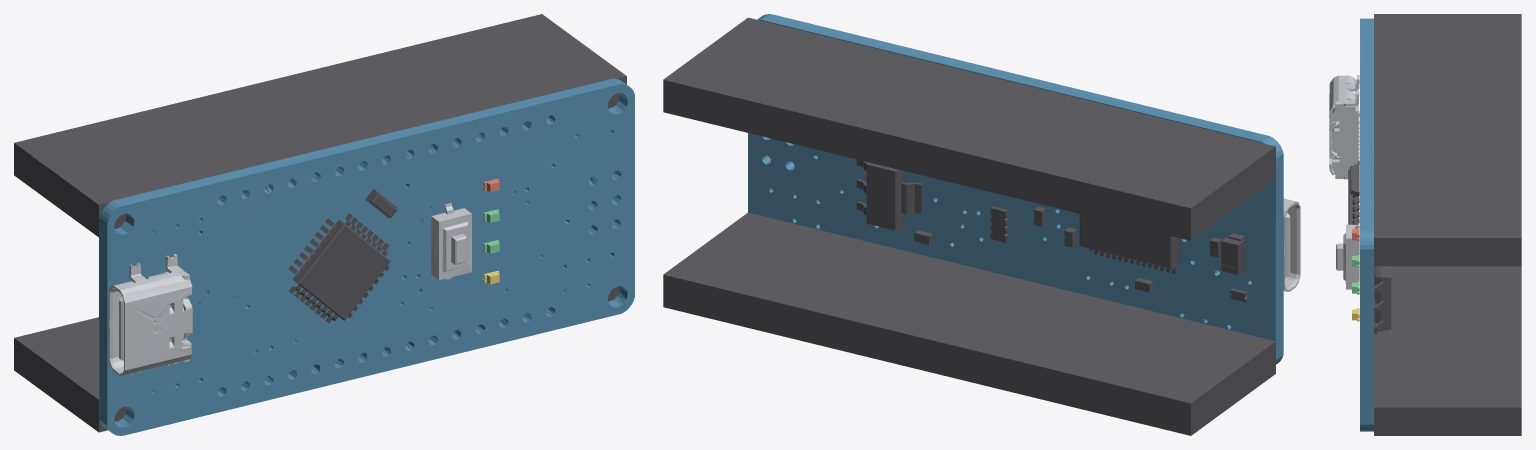
File: nano.glb
3 renders of one model, left to right at view 1: azimuth 30°, elevation 25°; view 2: azimuth 150°, elevation 25°; view 3: azimuth 270°, elevation 25°, orthographic. The views are drawn at different scales.
Visible parts, largest first — view 1: pcb-blue, plastic-black, steel, led-yellow; view 2: plastic-black, pcb-blue, steel; view 3: plastic-black, pcb-blue, steel, led-yellow.
Part boxes in pixels (x1,y1,x2,y2): pcb-blue: (99,78,634,435); plastic-black: (14,14,626,432); steel: (108,203,471,375); led-yellow: (483,178,499,284); plastic-black: (663,17,1275,435); pcb-blue: (748,14,1283,364); steel: (1283,198,1300,291); plastic-black: (1348,14,1521,435); pcb-blue: (1360,18,1373,431); steel: (1329,75,1359,289); led-yellow: (1352,228,1359,321).
Bounding box in the file's own units: 0.0432 × 0.018 × 0.0157.
Materials: 4 (4 with a texture image).
